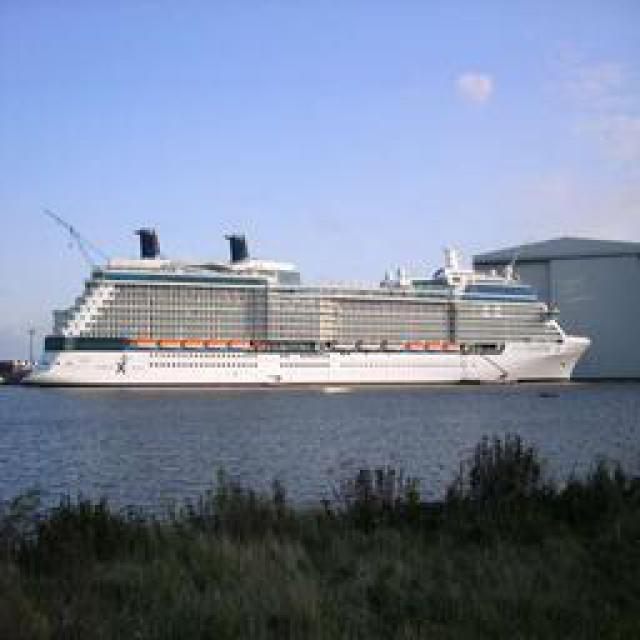Ship: (1, 228, 614, 394)
